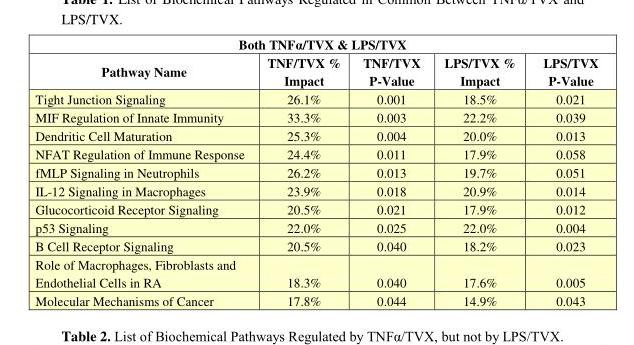table: (34, 34, 597, 308)
table column: (34, 34, 255, 308), (431, 34, 528, 308), (255, 34, 351, 308), (351, 34, 431, 308), (528, 34, 597, 308)
table column header: (34, 34, 597, 89)
table row: (34, 53, 597, 89), (34, 254, 597, 290), (34, 34, 597, 53), (34, 125, 597, 144), (34, 180, 597, 199), (34, 217, 597, 236), (34, 89, 597, 107), (34, 107, 597, 125), (34, 144, 597, 162), (34, 162, 597, 180), (34, 199, 597, 217), (34, 236, 597, 254), (34, 290, 597, 308)
table spanning cell: (34, 34, 597, 53)
